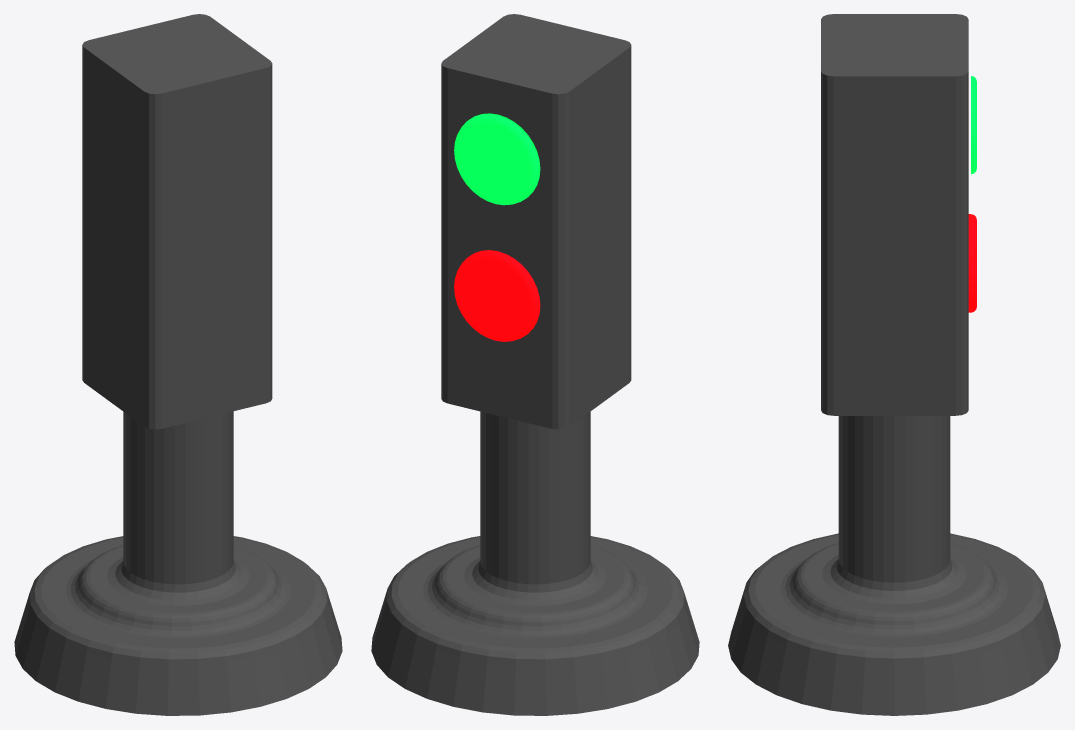
The model's file is Semafero.fbx.
3 renders of one model, left to right at view 1: azimuth 30°, elevation 25°; view 2: azimuth 150°, elevation 25°; view 3: azimuth 270°, elevation 25°, orthographic.
Parts seen in each view (by area): view 1: Semafero; view 2: Semafero; view 3: Semafero.
Part boxes in pixels (x1,y1,x2,y2): Semafero: (14, 14, 342, 715); Semafero: (371, 14, 699, 715); Semafero: (728, 14, 1060, 715).
Bounding box in the file's own units: 71.76 × 143 × 71.76.
